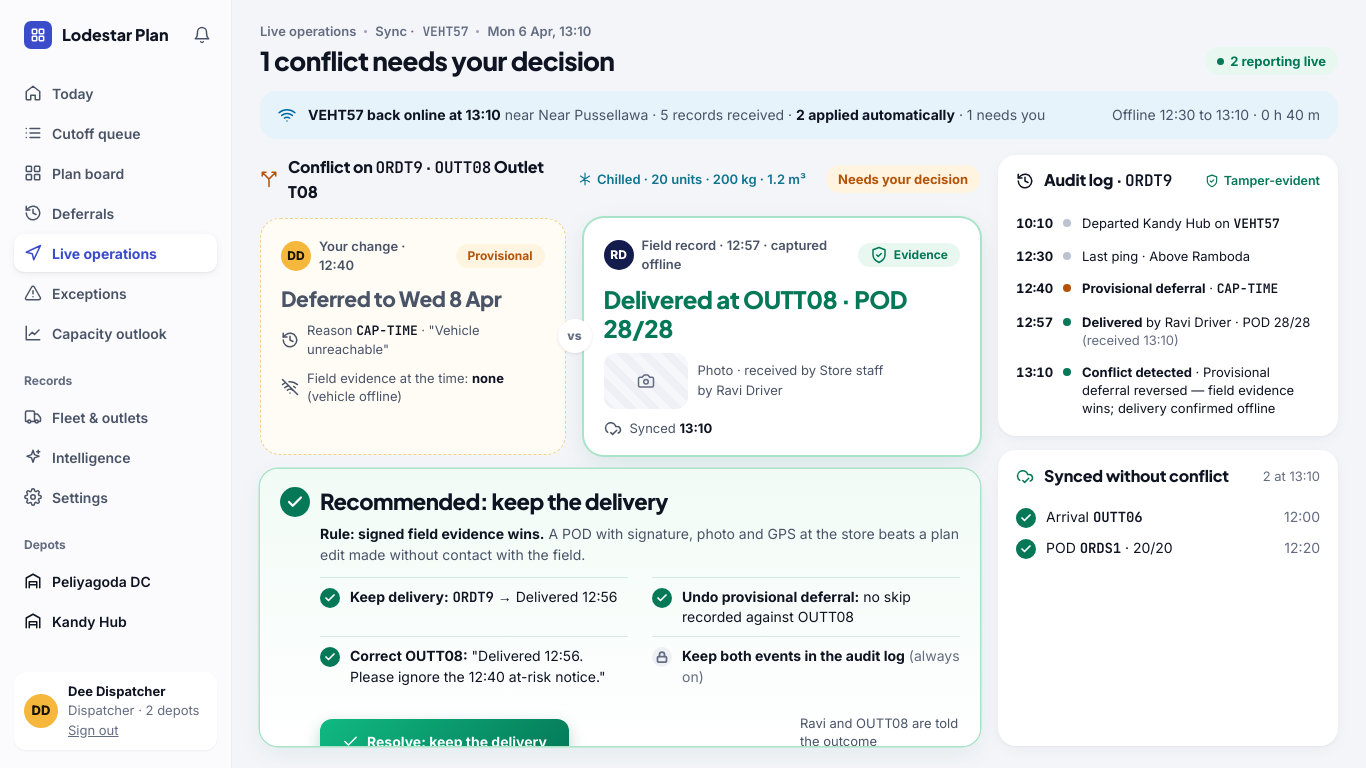
Test case: DSP-A2 Reconcile conflict › "Resolve: keep the delivery" dismisses the open provisional deferral and tells the store and the driver
This screenshot has width=1366, height=768.
Expected: the text "Deferred to Wed 8 Apr" is shown, [281, 285, 502, 312]
Click the button "Resolve: keep the delivery". click: (444, 741)
box: [320, 719, 569, 763]
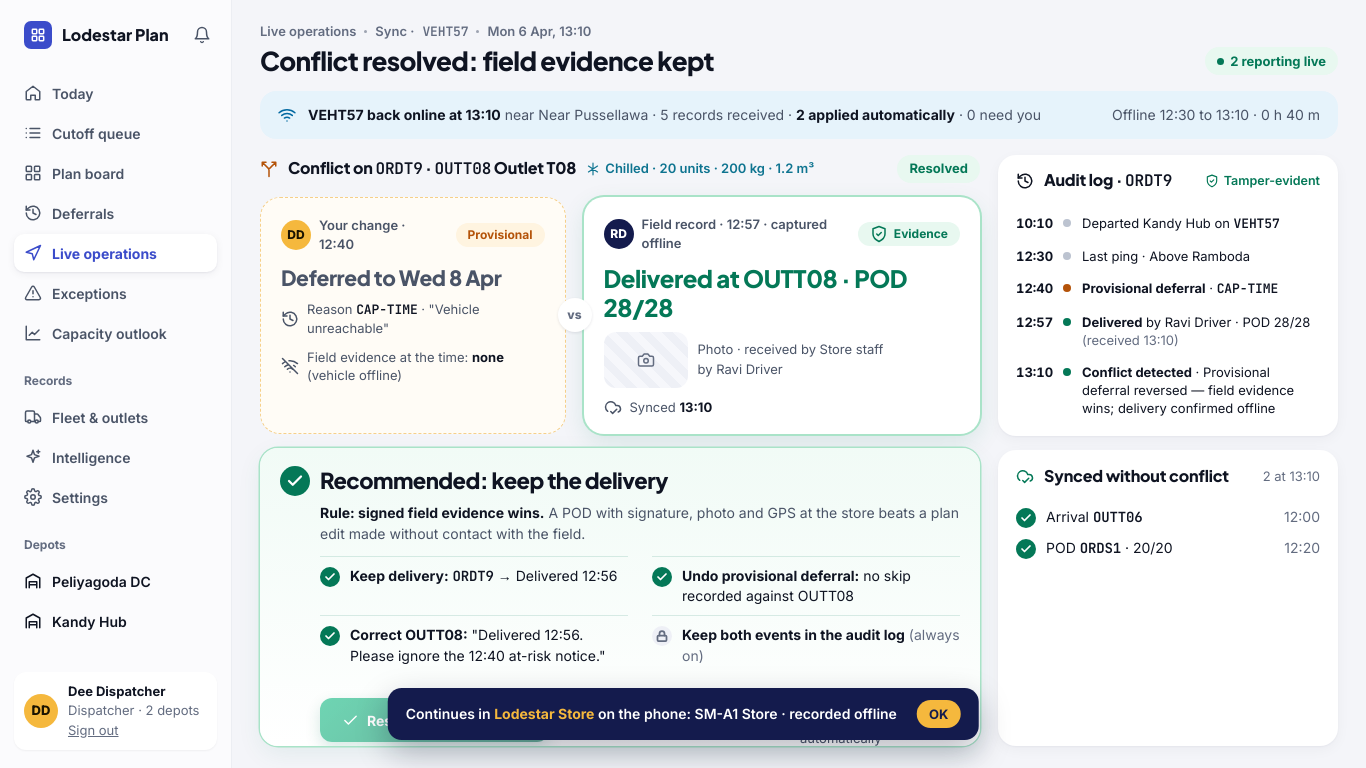
Result: the text "on the phone: SM-A1 Store · recorded offline" is shown at [406, 704, 897, 724]
Result: the text with test id "a2-title" reads "Conflict resolved: field evidence kept" at [260, 44, 714, 76]
